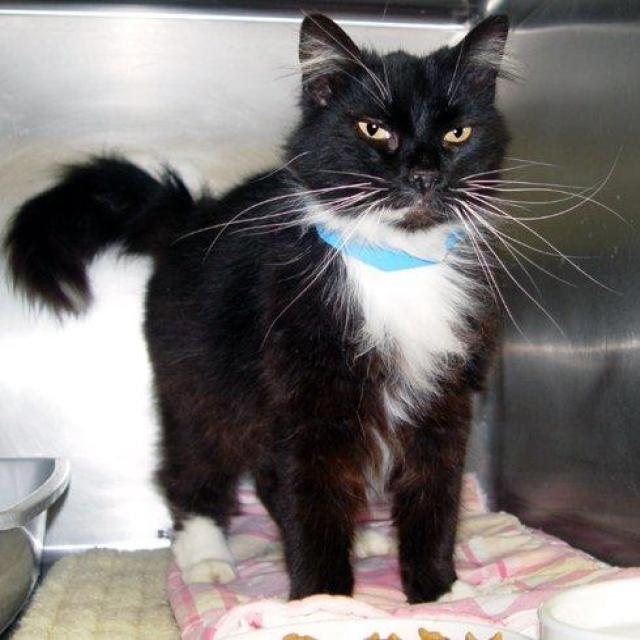Cats: (0, 9, 628, 604)
